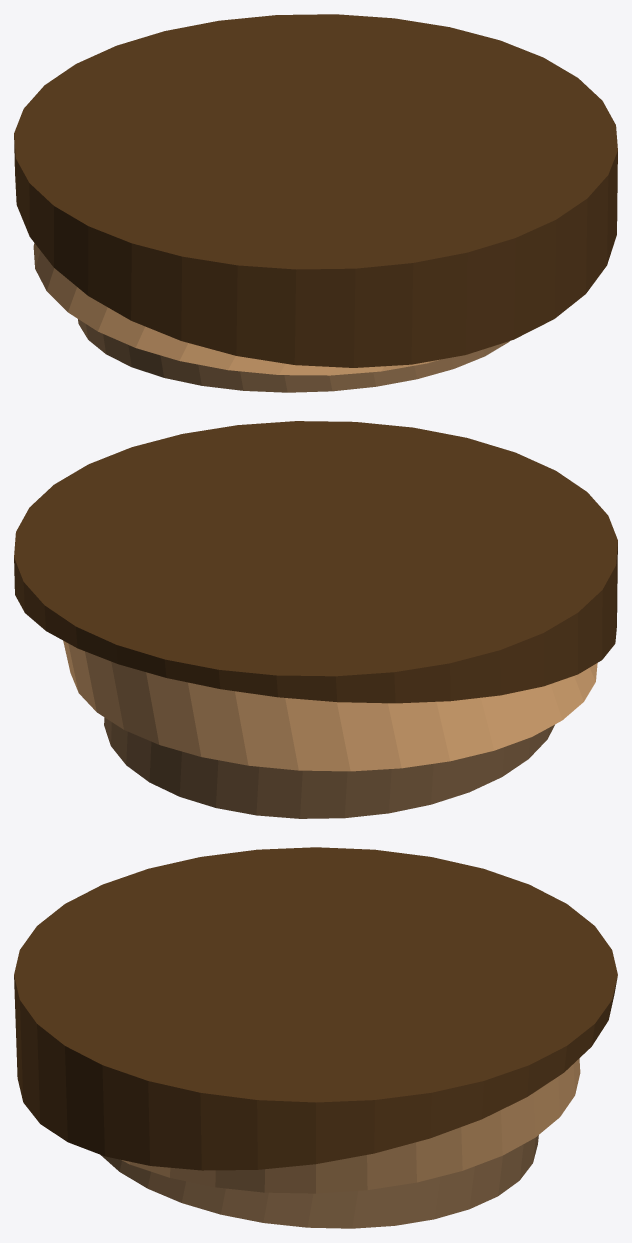
Rendered from deckenlampe.glb.
The picture shows the model from 3 angles, top to bottom: view 1: azimuth 30°, elevation 25°; view 2: azimuth 150°, elevation 25°; view 3: azimuth 270°, elevation 25°; orthographic projection.
Visible parts, largest first — view 1: Cylinder; view 2: Cylinder; view 3: Cylinder.
Boxes of the visible parts, x1,y1,x2,y2 form: Cylinder: [14, 14, 617, 392]; Cylinder: [14, 421, 617, 818]; Cylinder: [14, 847, 617, 1228].
Bounding box in the file's own units: 2 × 0.6392 × 2.
